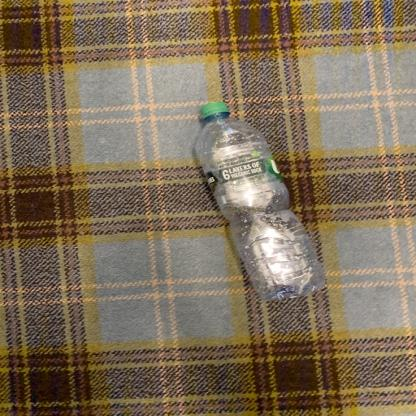trash: (192, 102, 328, 302)
